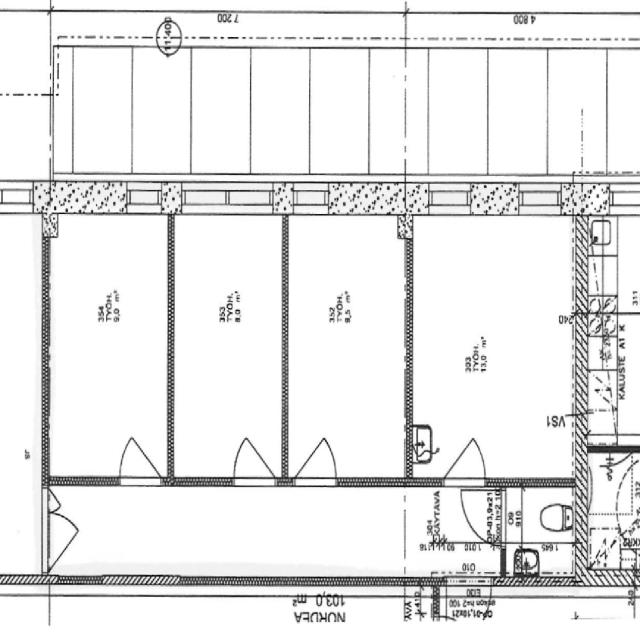door: (110, 431, 163, 488), (293, 428, 341, 488), (228, 431, 278, 486), (43, 498, 83, 566), (457, 484, 502, 544), (446, 435, 489, 486)
window: (181, 179, 276, 215), (442, 580, 489, 606)
zone: (409, 206, 582, 484), (283, 209, 414, 482), (47, 210, 172, 486), (168, 197, 285, 483), (502, 480, 577, 585), (582, 448, 640, 580), (583, 314, 640, 448), (585, 210, 640, 314), (460, 485, 502, 545)
